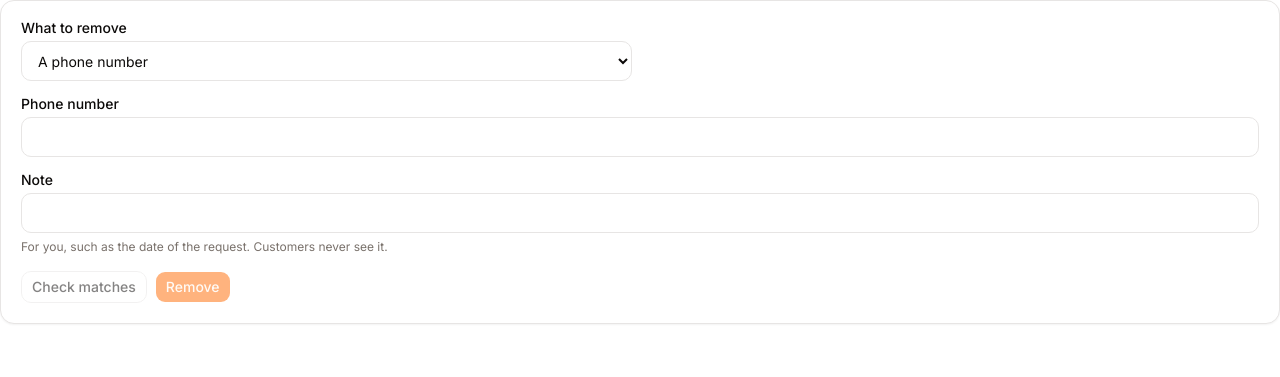
Test case: RemovalForm › says when no record is found
Select "A whole record" in the dropdown labelled "What to remove" at (326, 61), box [21,41,632,81]
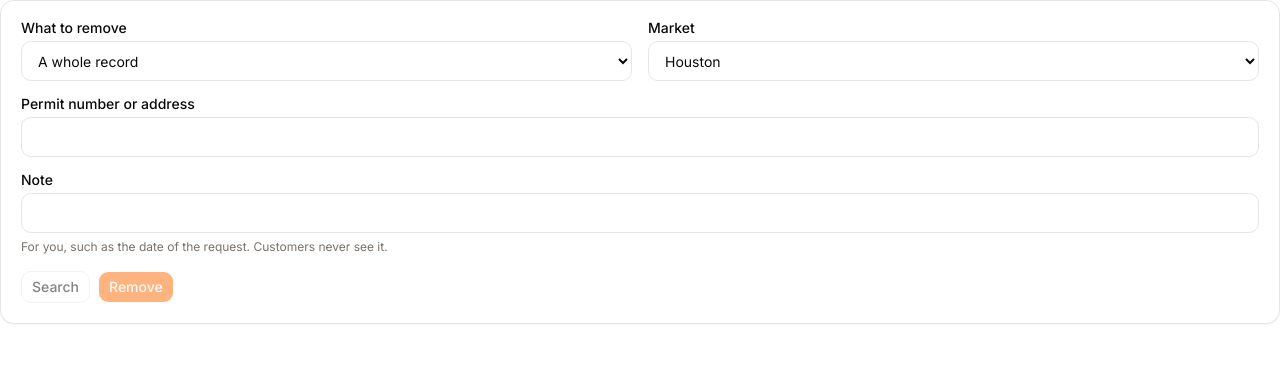
Type "nothing here" into the field labelled "Permit number or address" at (640, 137), box [21,117,1259,157]
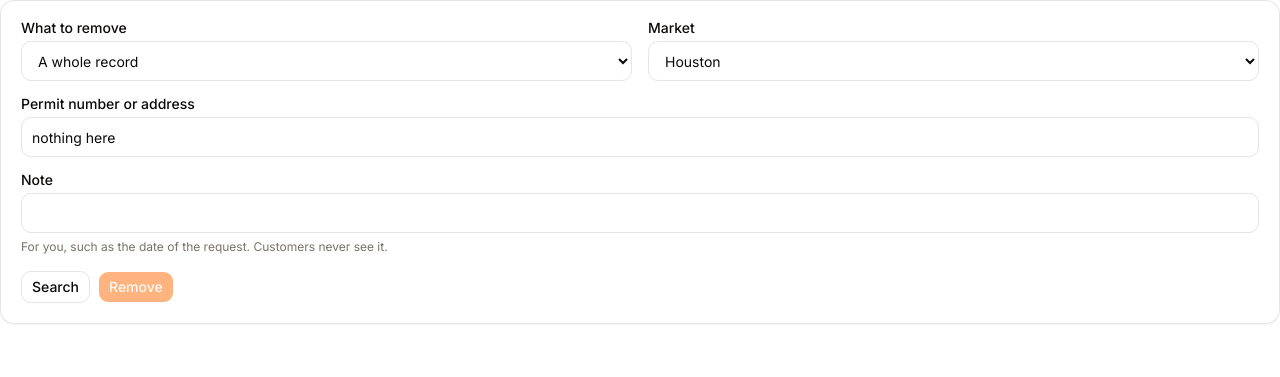
Click the button "Search" at (56, 287), box [21,271,90,303]
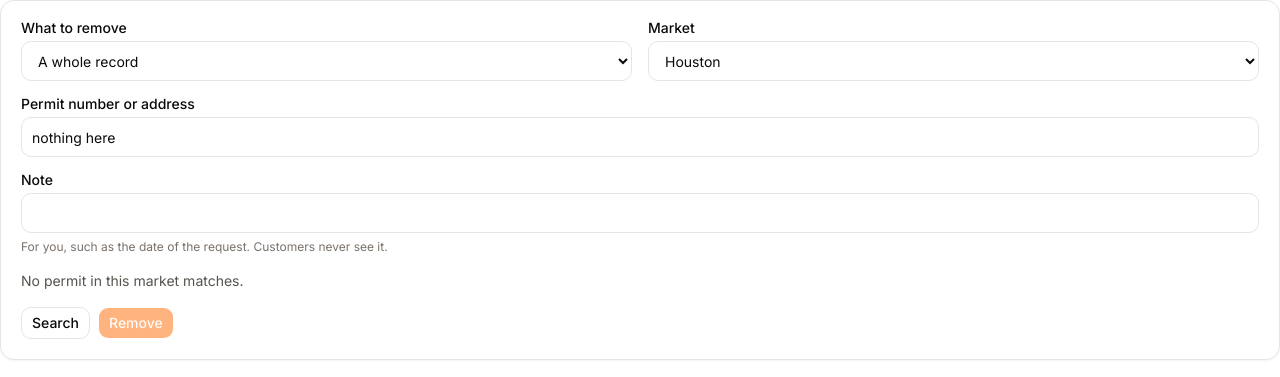
Expected: the text "No permit in this market matches." is shown, [21,272,244,289]
